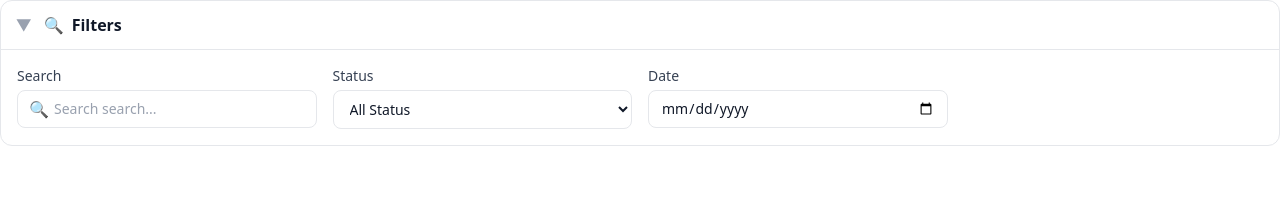
Test: AdvancedFilters › should show clear all button when filters are active
Type "test" into the field with placeholder "Search search..." at point(167, 109), box [17, 90, 316, 128]
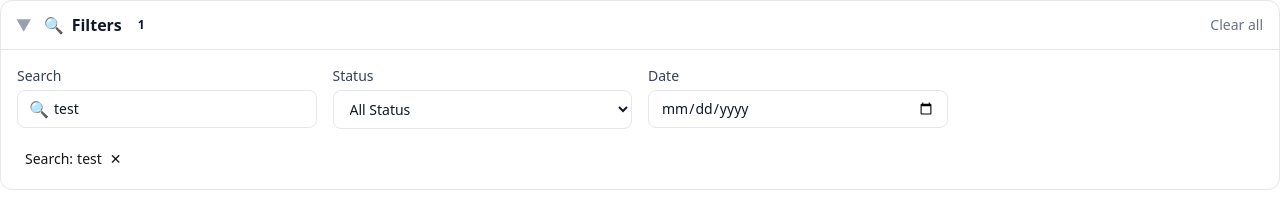
expect the button "Clear all" is shown: met, box [1210, 15, 1263, 35]
